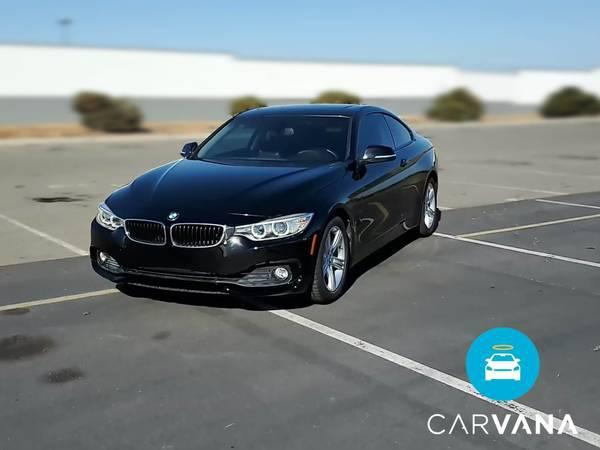Front_Bumper: (87, 219, 322, 304)
Front_Fender: (292, 160, 355, 224)
Front_Left_Door: (354, 153, 409, 262)
Front_Left_Window: (354, 114, 395, 161)
Front_Windshield: (188, 116, 350, 165)
Grille: (122, 218, 232, 253)
Hood: (105, 157, 345, 227)
Left_Headlight: (234, 210, 315, 241)
Rear_Left_Door: (399, 138, 438, 234)
Rear_Left_Window: (385, 115, 416, 153)
Right_Headlight: (94, 201, 124, 228)
Roof: (235, 103, 396, 159)
Wheel: (316, 216, 348, 298), (421, 179, 440, 234)
